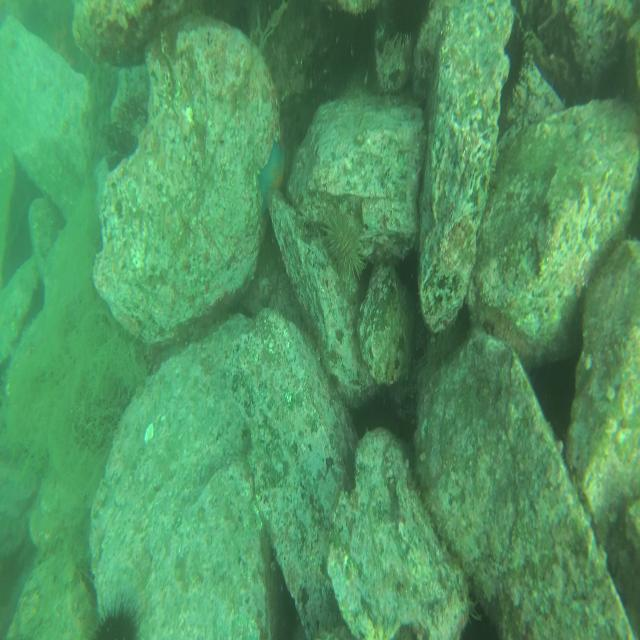echinus: (322, 203, 365, 284), (354, 384, 393, 436), (92, 603, 142, 640), (455, 302, 473, 337)
starfish: (260, 143, 288, 213)
